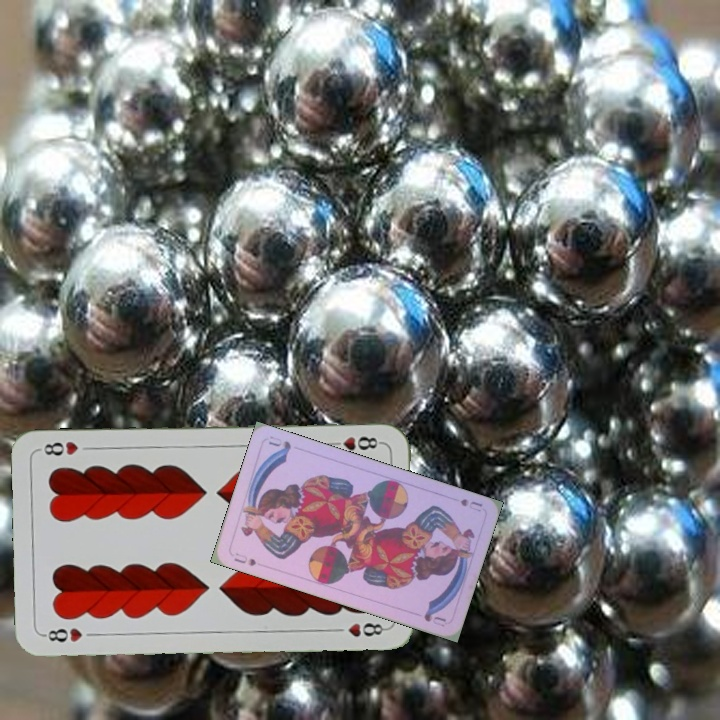H8: (326, 432, 385, 453), (39, 624, 84, 645)
SU: (456, 494, 485, 515), (230, 548, 259, 569)
